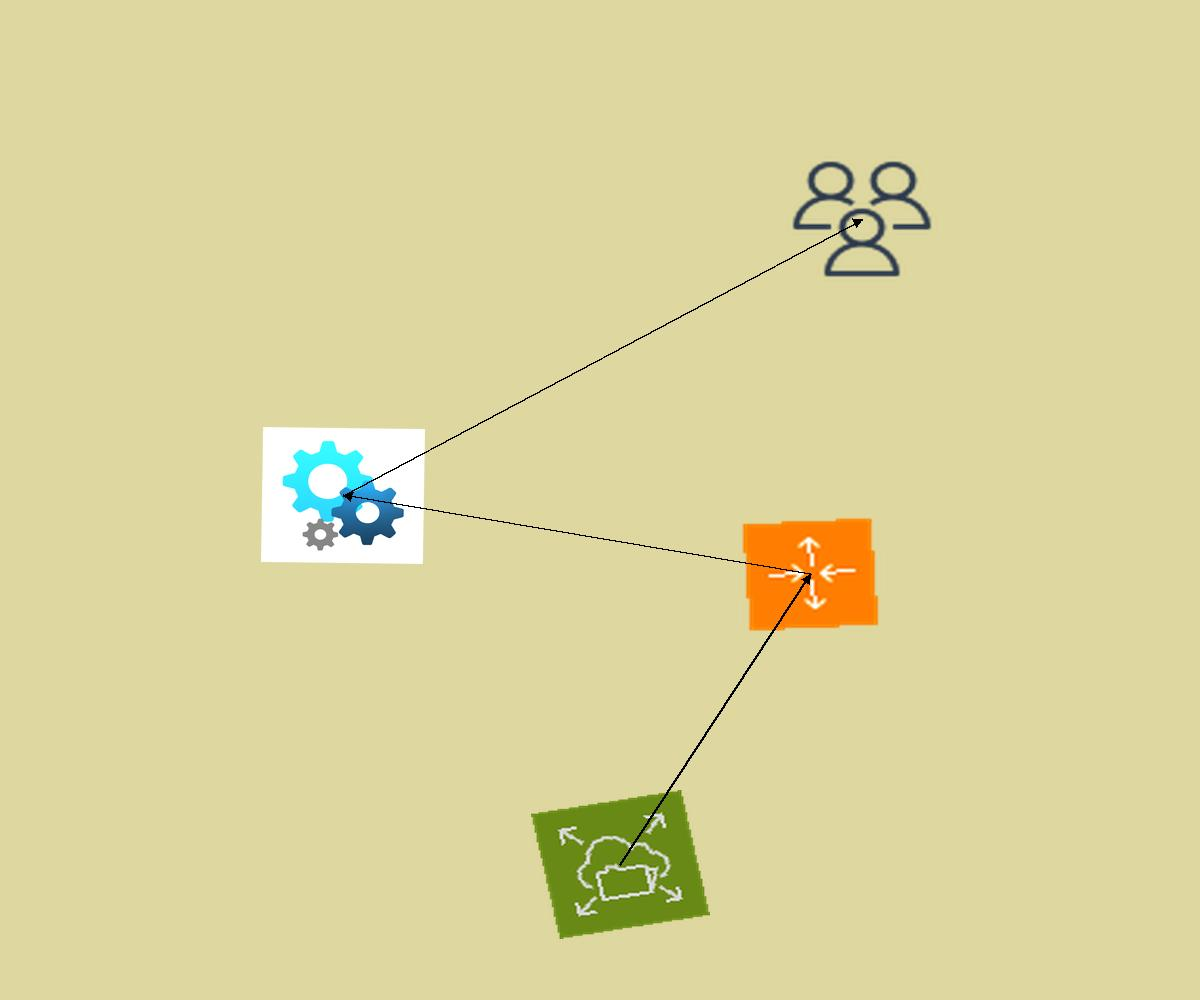AWS-EFS: (531, 790, 710, 939)
AWS-Res_Users: (784, 154, 940, 284)
AWS-Scaling-group: (740, 516, 881, 633)
Azure_api: (261, 427, 425, 564)
